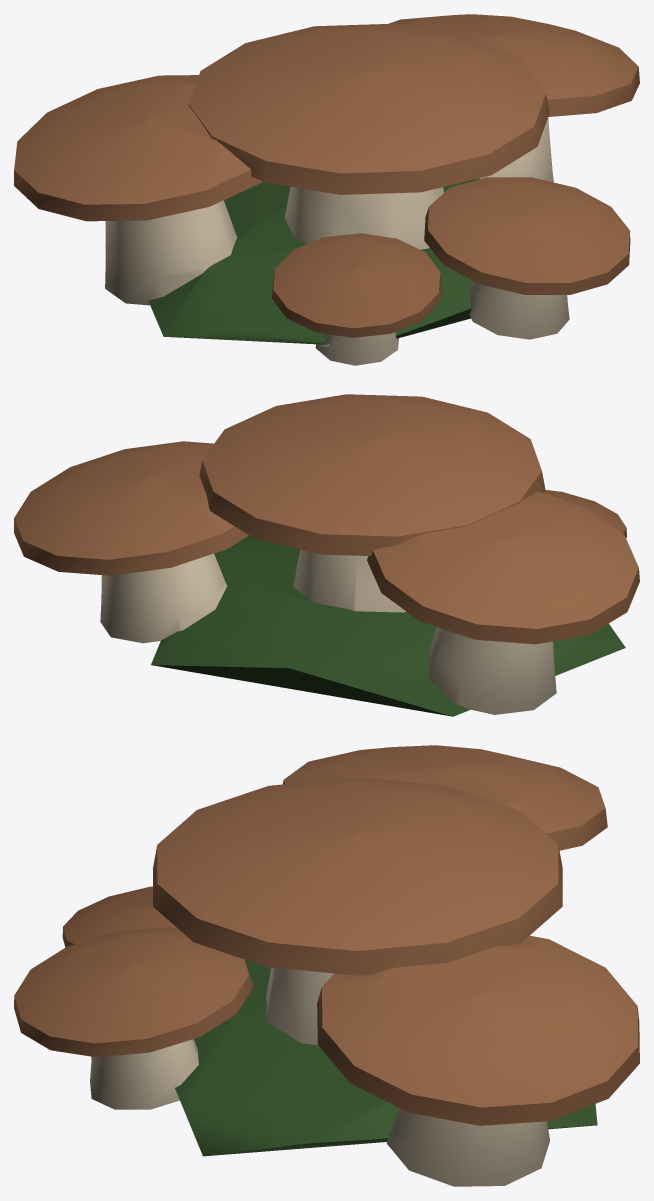
Rendered from mushrooms_brown.glb.
3 views of the same model, one above another, from view 1: azimuth 30°, elevation 25°; view 2: azimuth 150°, elevation 25°; view 3: azimuth 270°, elevation 25° (orthographic). The views are drawn at different scales.
Parts seen in each view (by area): view 1: Item; view 2: Item; view 3: Item.
Boxes of the visible parts, x1,y1,x2,y2 form: Item: [14, 14, 639, 365]; Item: [14, 394, 639, 716]; Item: [14, 745, 639, 1186].
Bounding box in the file's own units: 1.45 × 0.4641 × 1.13.
Materials: 3 (3 with a texture image).
